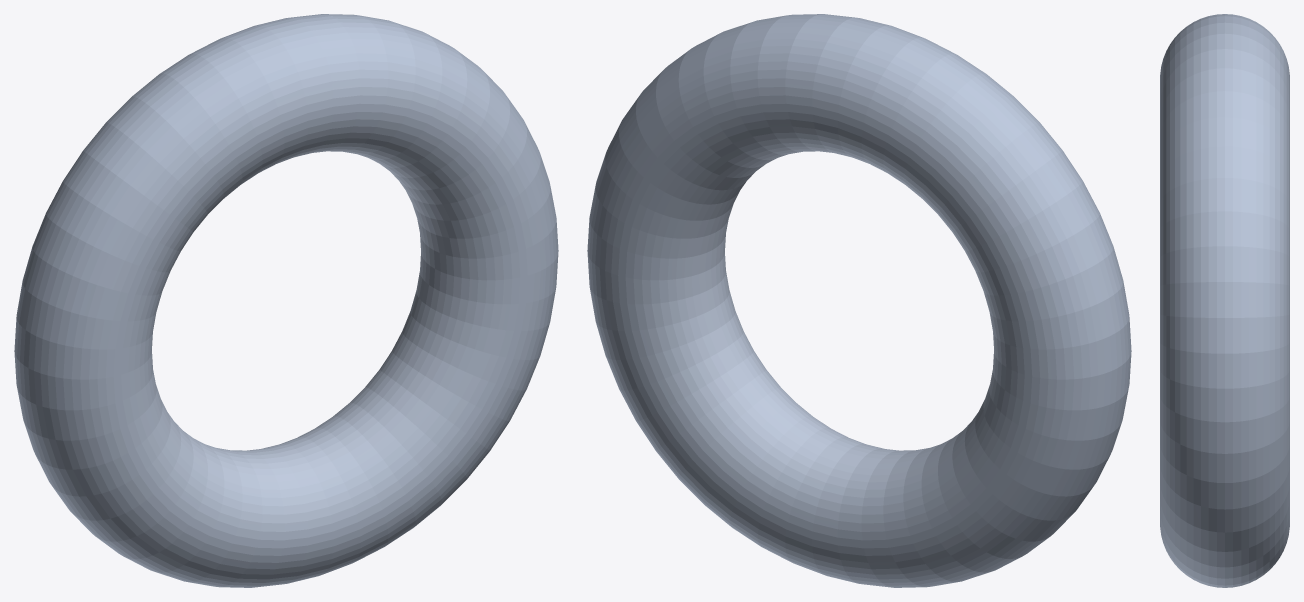
3 renders of one model, left to right at view 1: azimuth 30°, elevation 25°; view 2: azimuth 150°, elevation 25°; view 3: azimuth 270°, elevation 25°, orthographic. The views are drawn at different scales.
Parts seen in each view (by area): view 1: world; view 2: world; view 3: world.
Part boxes in pixels (x1,y1,x2,y2): world: (14,14,558,587); world: (587,14,1131,587); world: (1160,14,1289,587).
Bounding box in the file's own units: 24.13 × 24.09 × 5.46.
